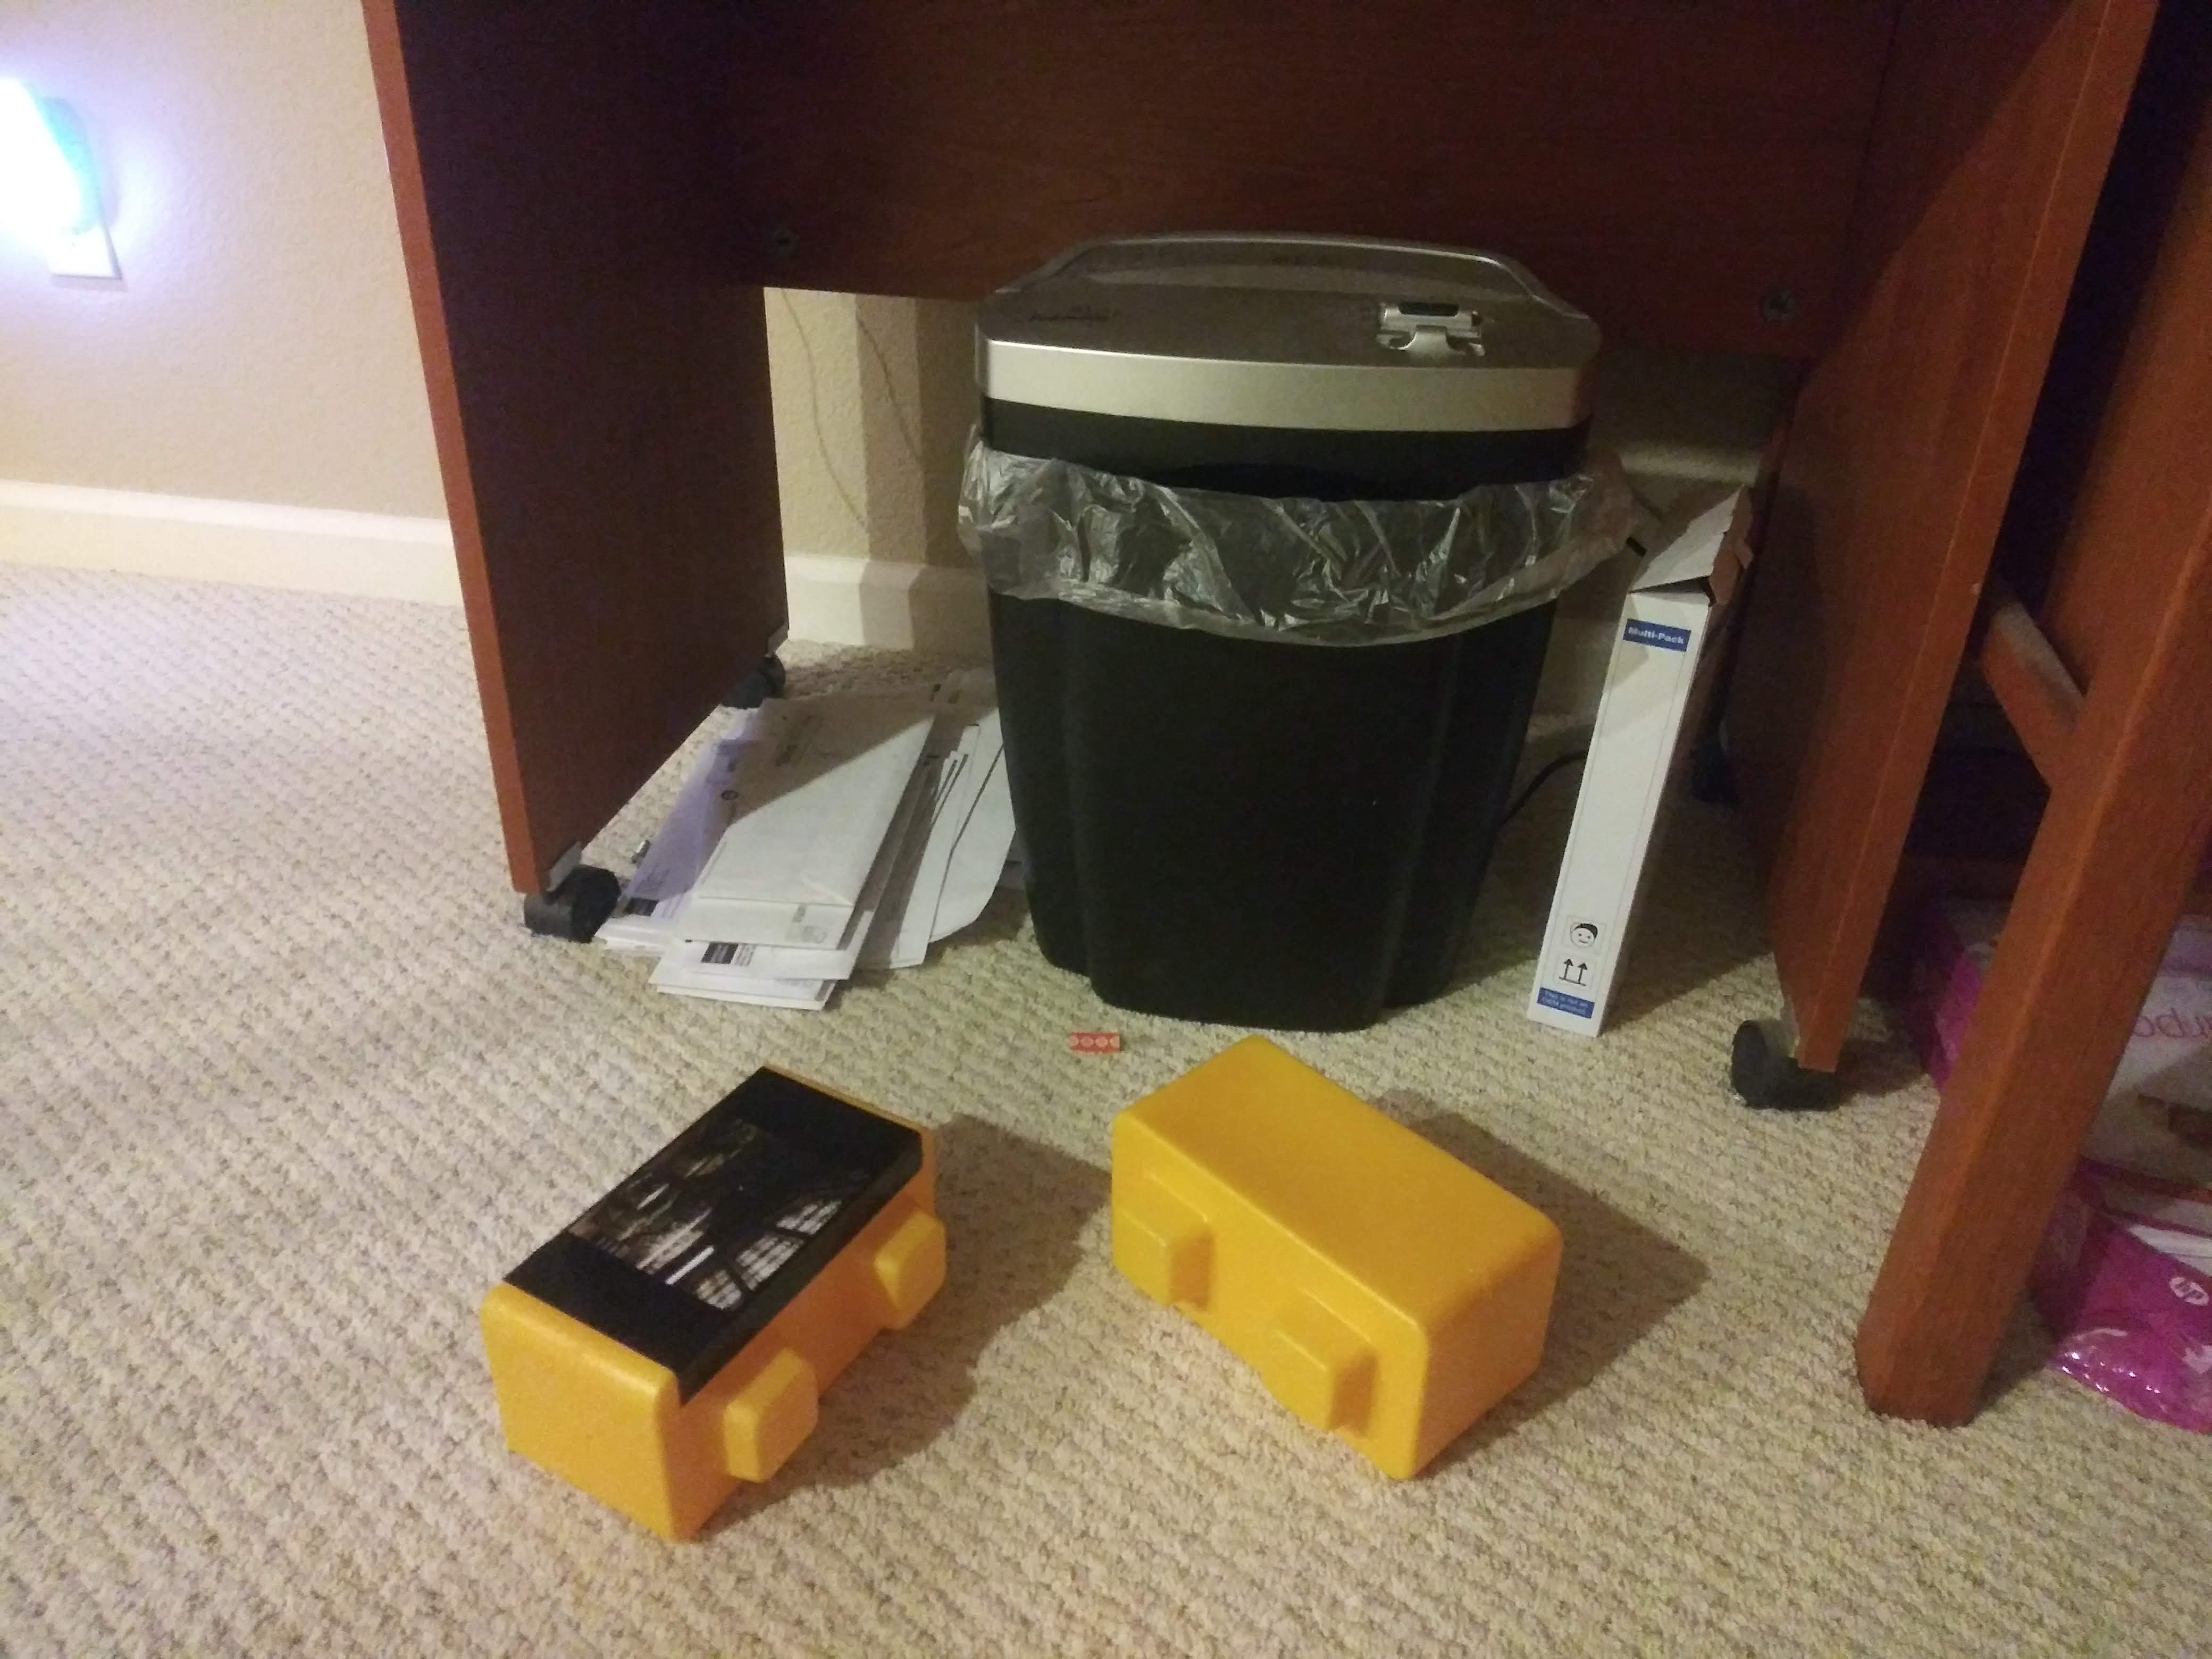skystone: (496, 1100, 939, 1410)
stone: (1101, 1046, 1554, 1450)
